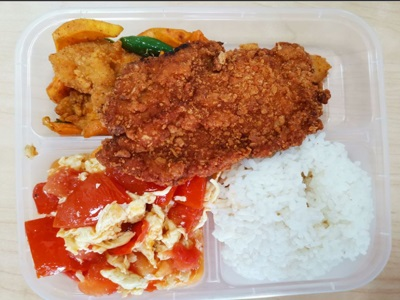jdxhs: (29, 169, 193, 290)
jp: (125, 58, 323, 138)
rice: (227, 153, 369, 275)
